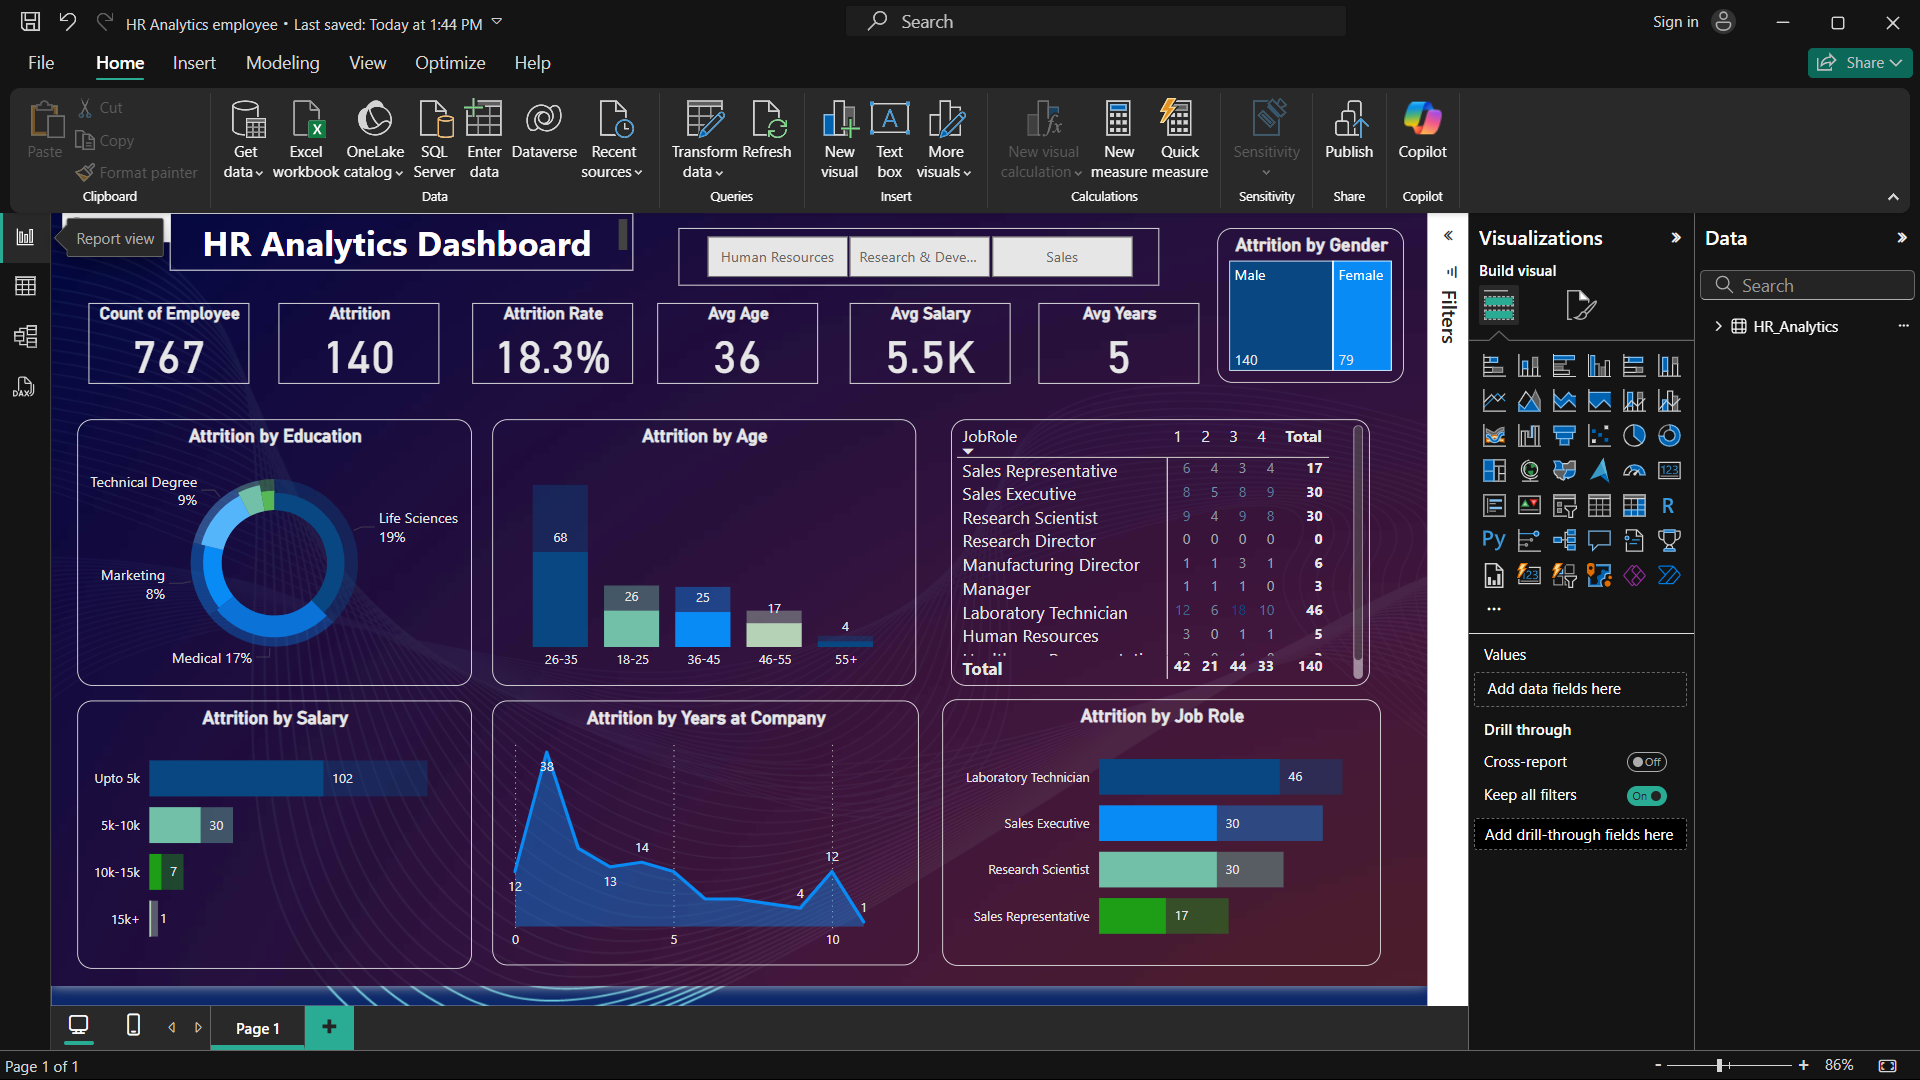

The page's visual inventory and layout, read from the dashboard file:
{"tool":"powerbi","page":{"name":"Page 1","canvas":[1280,720],"ordinal":0},"visuals":[{"type":"card","title":"Count of Employee","fields":{"Values":["CountNonNull(HR_Analytics.EmpID)"]},"box":[35.3,84,149.5,75.6],"z":0},{"type":"card","title":"Attrition","fields":{"Values":["Sum(HR_Analytics.AttritionCount)"]},"box":[211.7,84,149.5,75.6],"z":1000},{"type":"card","title":"Attrition Rate","fields":{"Values":["HR_Analytics.AttritionRate"]},"box":[391.4,84,149.5,75.6],"z":2000},{"type":"card","title":"Avg Age","fields":{"Values":["Avg(HR_Analytics.Age)"]},"box":[564.4,84,149.5,75.6],"z":3000},{"type":"actionButton","box":[10.1,0,100.8,26.9],"z":4000},{"type":"card","title":"Avg Salary","fields":{"Values":["Avg(HR_Analytics.MonthlyIncome)"]},"box":[742.5,84,149.5,75.6],"z":5000},{"type":"card","title":"Avg Years","fields":{"Values":["Avg(HR_Analytics.YearsAtCompany)"]},"box":[918.8,84,149.5,75.6],"z":6000},{"type":"donutChart","title":"Attrition by Education","fields":{"Y":["Sum(HR_Analytics.AttritionCount)"],"Category":["HR_Analytics.EducationField","HR_Analytics.YearsAtCompany"]},"box":[24.1,191.3,367.1,248],"z":7000},{"type":"columnChart","title":"Attrition by Age","fields":{"Category":["HR_Analytics.AgeGroup"],"Y":["Sum(HR_Analytics.AttritionCount)"]},"box":[411,191.3,394,248],"z":8000},{"type":"pivotTable","fields":{"Rows":["HR_Analytics.JobRole"],"Columns":["HR_Analytics.JobSatisfaction"],"Values":["Sum(HR_Analytics.AttritionCount)"]},"box":[837.6,191.3,389.8,248],"z":9000},{"type":"barChart","title":"Attrition by Salary","fields":{"Category":["HR_Analytics.SalarySlab"],"Y":["Sum(HR_Analytics.AttritionCount)"]},"box":[24.1,453.5,367.1,249.4],"z":10000},{"type":"barChart","title":"Attrition by Job Role","fields":{"Category":["HR_Analytics.JobRole"],"Y":["Sum(HR_Analytics.AttritionCount)"]},"box":[829.1,452.1,408.2,248],"z":11000},{"type":"areaChart","title":"Attrition by Years at Company","fields":{"Category":["HR_Analytics.YearsAtCompany"],"Y":["Sum(HR_Analytics.AttritionCount)"]},"box":[411,453.5,396.9,246.6],"z":12000},{"type":"treemap","title":"Attrition by Gender","fields":{"Group":["HR_Analytics.Gender"],"Values":["Sum(HR_Analytics.AttritionCount)"]},"box":[1085,14.1,174,144.3],"z":13000},{"type":"slicer","fields":{"Values":["HR_Analytics.Department"]},"box":[584.2,14.1,447,53.8],"z":14000},{"type":"textbox","box":[110.3,0,431.4,53.8],"z":15000}]}

Visuals, with their boxes on the page's 1280x720 design canvas (x1, y1, x2, y2). These are canvas units, not pixel positions in the 1920x1080 screenshot, which may show the page scaled, cropped or inside an application window:
"Count of Employee" card: 35:84:185:160
"Attrition" card: 212:84:361:160
"Attrition Rate" card: 391:84:541:160
"Avg Age" card: 564:84:714:160
actionButton: 10:0:111:27
"Avg Salary" card: 742:84:892:160
"Avg Years" card: 919:84:1068:160
"Attrition by Education" donutChart: 24:191:391:439
"Attrition by Age" columnChart: 411:191:805:439
pivotTable - HR_Analytics.JobRole x HR_Analytics.JobSatisfaction: 838:191:1227:439
"Attrition by Salary" barChart: 24:454:391:703
"Attrition by Job Role" barChart: 829:452:1237:700
"Attrition by Years at Company" areaChart: 411:454:808:700
"Attrition by Gender" treemap: 1085:14:1259:158
slicer - HR_Analytics.Department: 584:14:1031:68
textbox: 110:0:542:54
